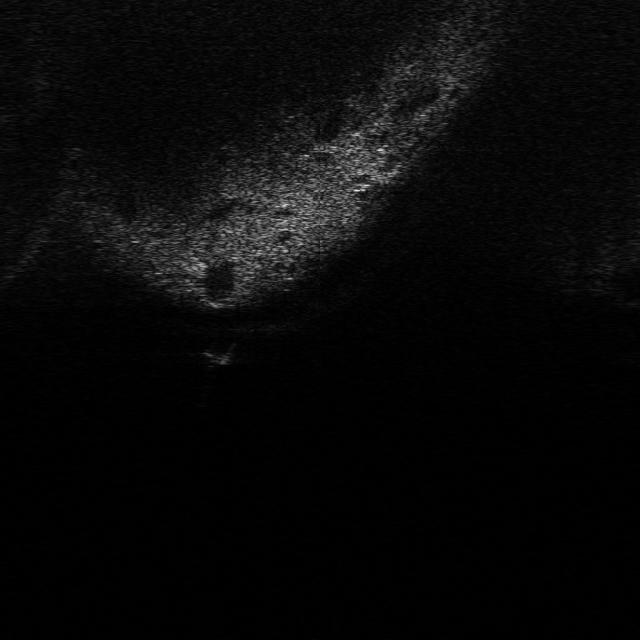cube: (197, 338, 241, 368)
